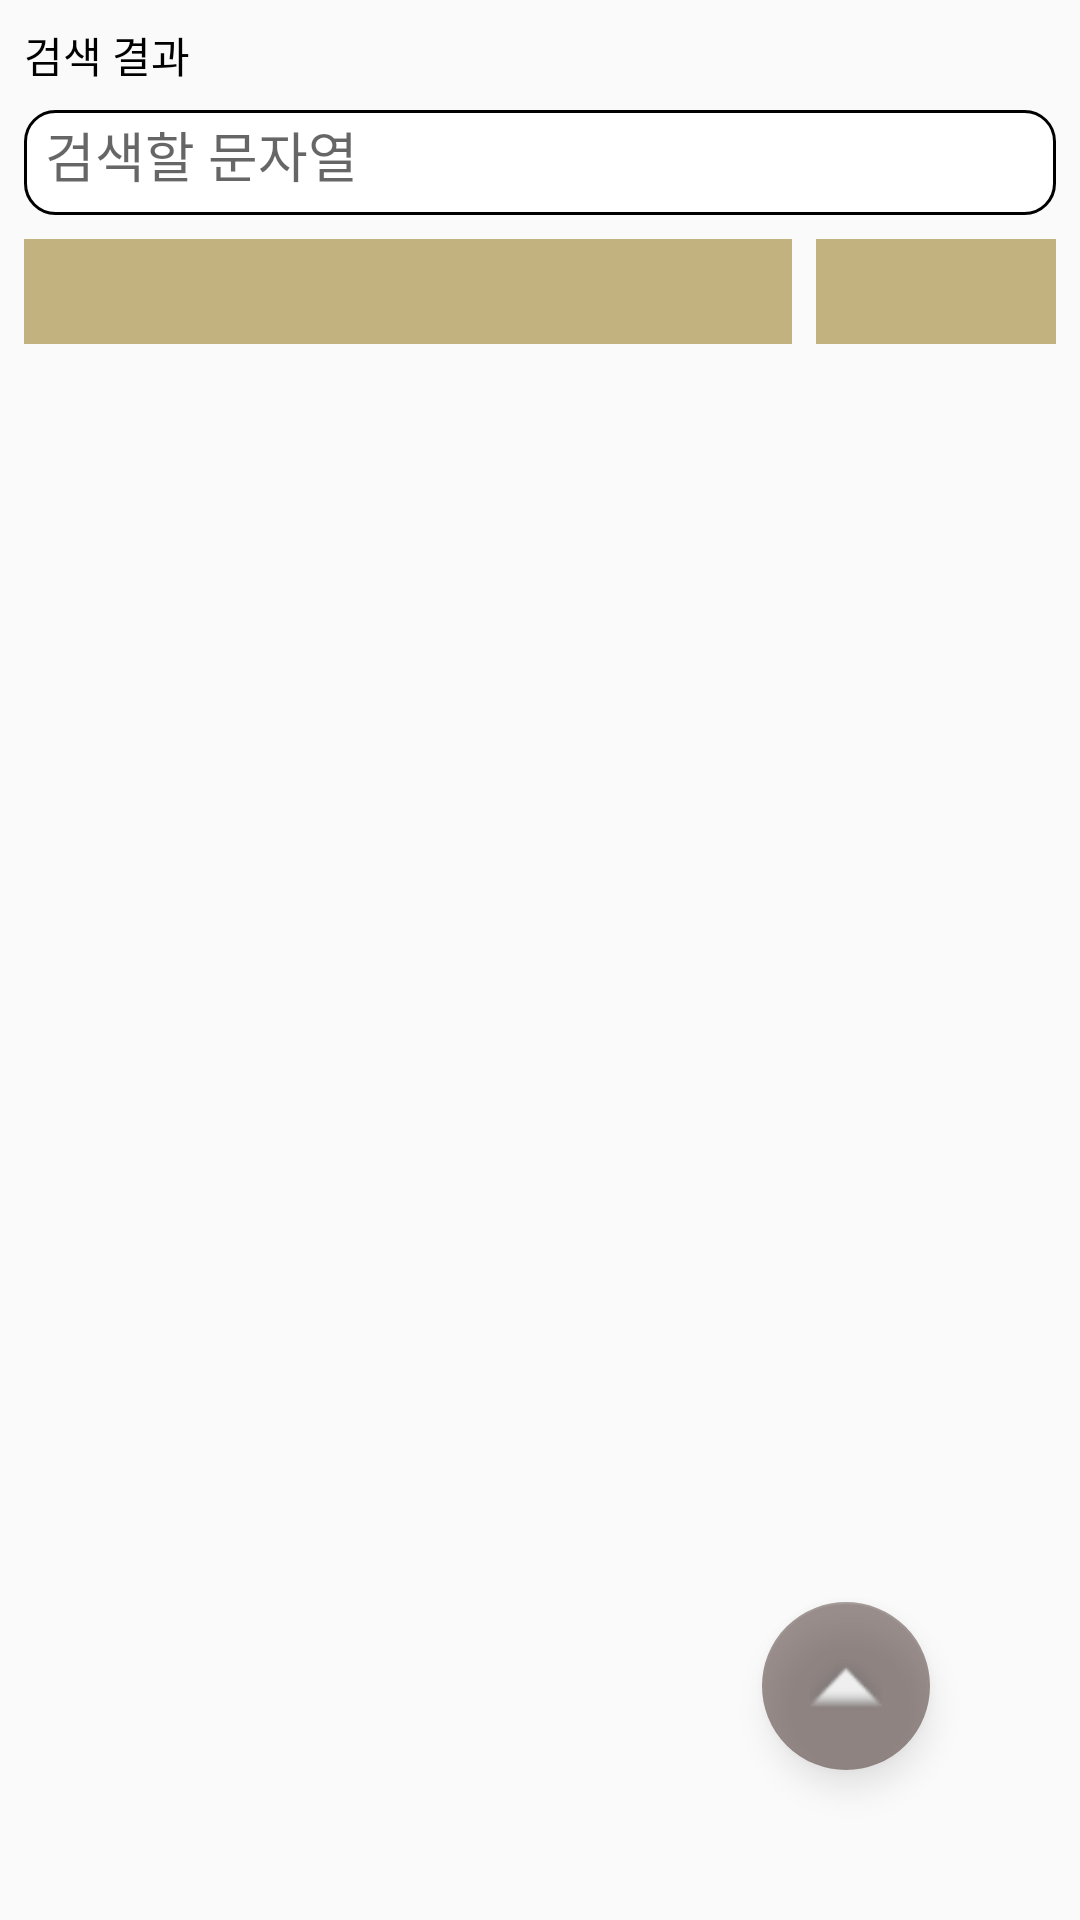

Named icons in this screenshot (1080px×1920px) and their bounding boxes, Rect(x1, y1, x2, y2):
arrow up float: Rect(762, 1602, 930, 1770)
